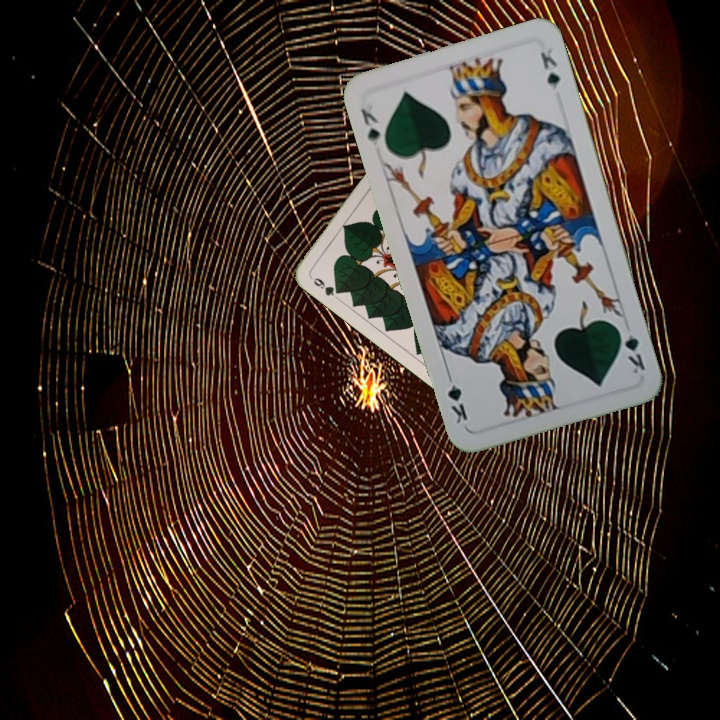G9: (306, 271, 343, 299)
GK: (613, 322, 648, 377), (356, 104, 383, 148)
